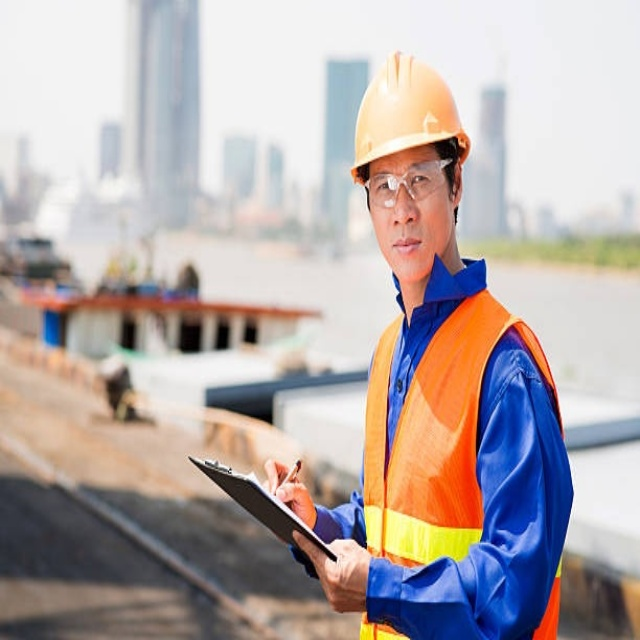Gafas: (365, 158, 454, 209)
Sin_guantes: (292, 529, 371, 616), (267, 458, 317, 532)
Sin_mascara: (386, 229, 427, 270)
